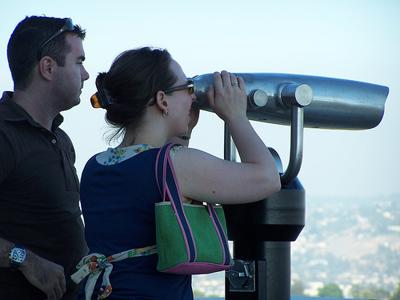person: (80, 47, 282, 300)
